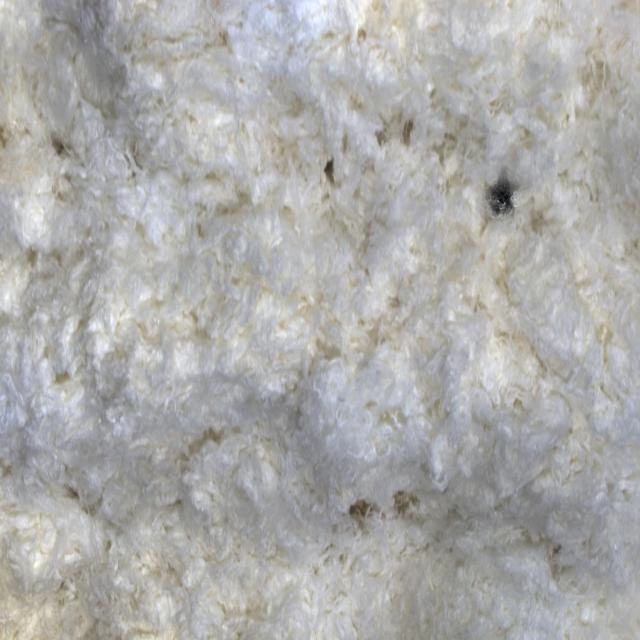dust: (476, 152, 534, 245)
